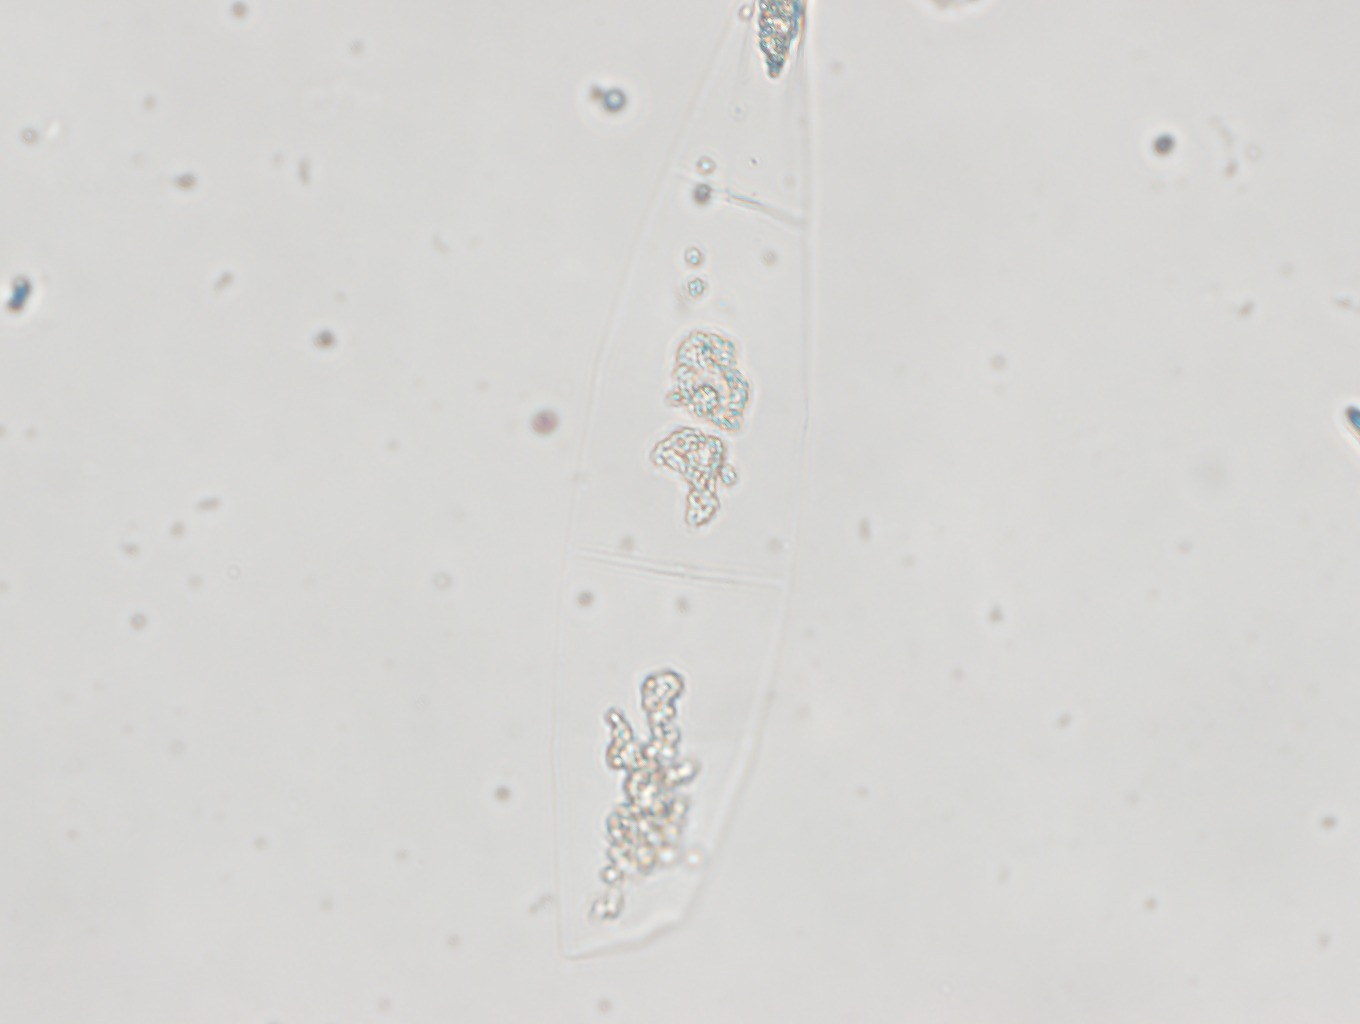helicotheca: (538, 3, 819, 962)
